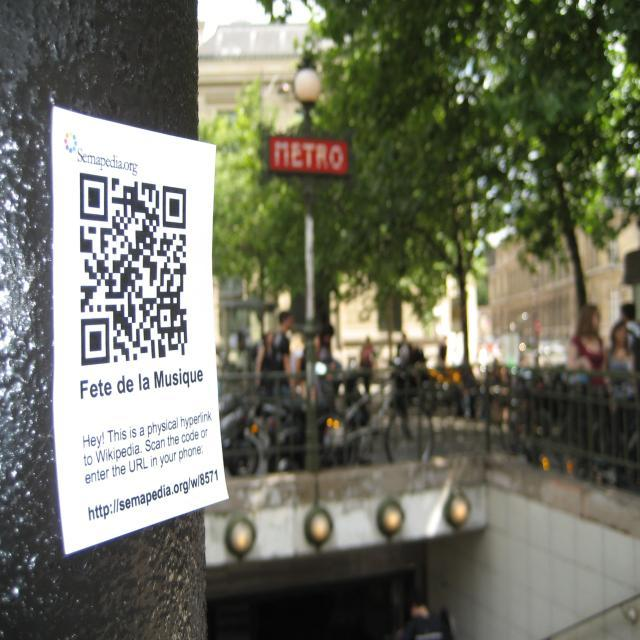qr-code: (80, 172, 188, 366)
